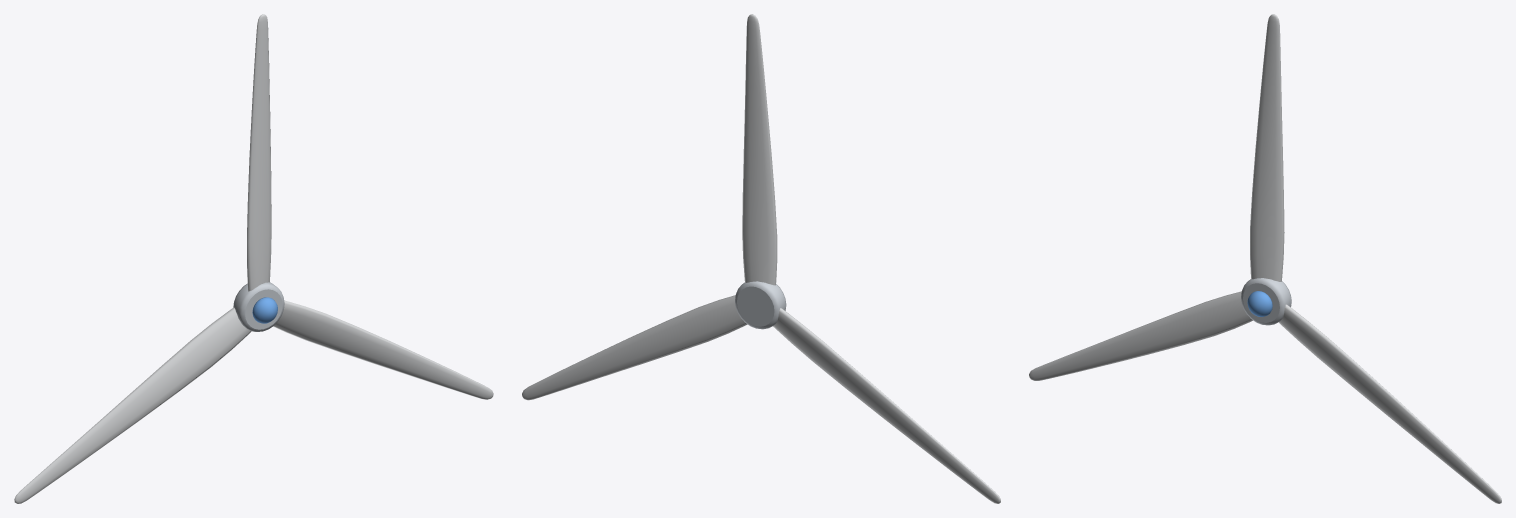
Rendered from part-blades.glb.
3 views of the same model, side by side, from view 1: azimuth 30°, elevation 25°; view 2: azimuth 150°, elevation 25°; view 3: azimuth 330°, elevation 25° (orthographic).
Parts seen in each view (by area): view 1: rotor_blade_2, rotor_blade_3, rotor_blade_1, rotor_hub, rotor_blue_nose; view 2: rotor_blade_1, rotor_blade_3, rotor_blade_2, rotor_hub; view 3: rotor_blade_1, rotor_blade_2, rotor_blade_3, rotor_hub, rotor_blue_nose.
Part boxes in pixels (x1,y1,x2,y2): rotor_blade_2: [14, 307, 251, 503]; rotor_blade_3: [273, 300, 493, 399]; rotor_blade_1: [247, 14, 271, 291]; rotor_hub: [233, 282, 284, 331]; rotor_blue_nose: [252, 297, 277, 323]; rotor_blade_1: [742, 14, 777, 285]; rotor_blade_3: [522, 295, 747, 400]; rotor_blade_2: [773, 308, 1000, 503]; rotor_hub: [735, 281, 786, 329]; rotor_blade_1: [1250, 14, 1284, 281]; rotor_blade_2: [1029, 291, 1252, 380]; rotor_blade_3: [1278, 304, 1501, 503]; rotor_hub: [1241, 278, 1291, 325]; rotor_blue_nose: [1247, 291, 1272, 316].
Bounding box in the file's own units: 4.49 × 3.95 × 0.271.
